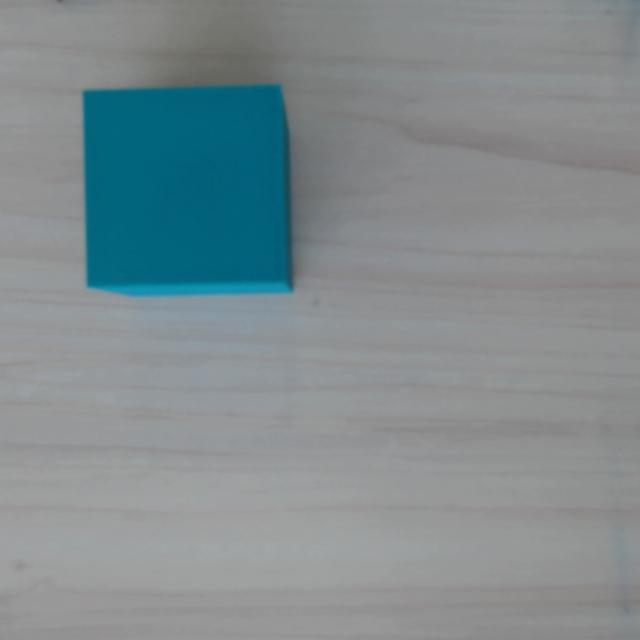Kubus-Hijau-505050: (82, 85, 292, 297)
